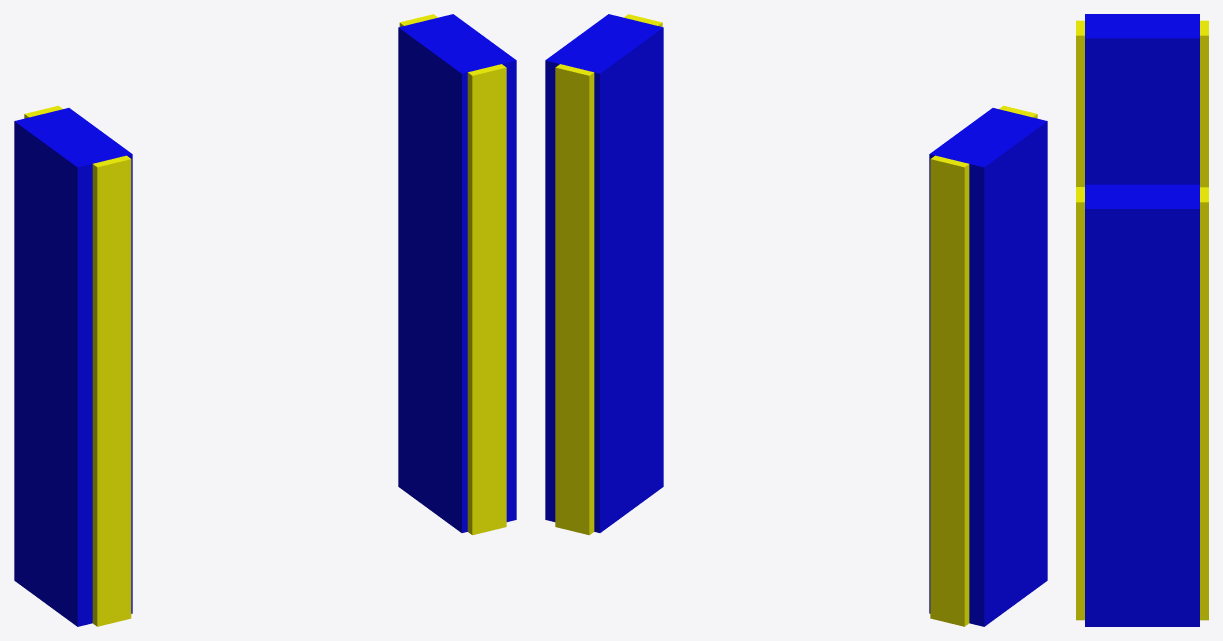
Rendered from ARCH_BOT_DOUBLE.fbx.
3 views of the same model, side by side, from view 1: azimuth 30°, elevation 25°; view 2: azimuth 150°, elevation 25°; view 3: azimuth 270°, elevation 25° (orthographic). The views are drawn at different scales.
Parts seen in each view (by area): view 1: ARCH_BOT_DOUBLE; view 2: ARCH_BOT_DOUBLE; view 3: ARCH_BOT_DOUBLE.
Part boxes in pixels (x1,y1,x2,y2): ARCH_BOT_DOUBLE: (14, 14, 516, 626); ARCH_BOT_DOUBLE: (545, 14, 1047, 626); ARCH_BOT_DOUBLE: (1076, 14, 1208, 626).
Bounding box in the file's own units: 400 × 400 × 115.
